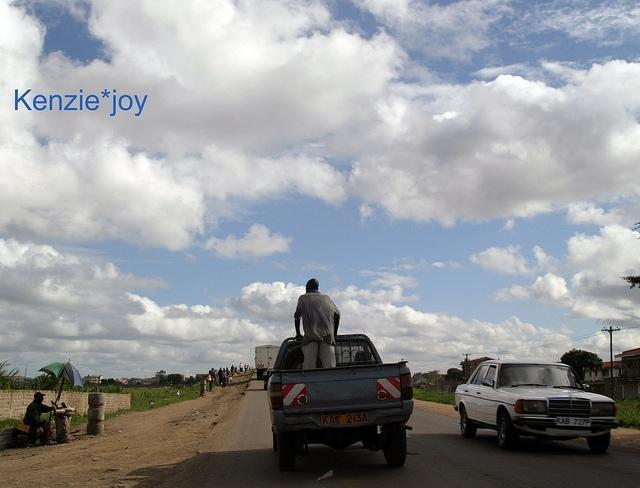car: (454, 359, 618, 454)
truck: (268, 334, 411, 471), (255, 344, 282, 379)
